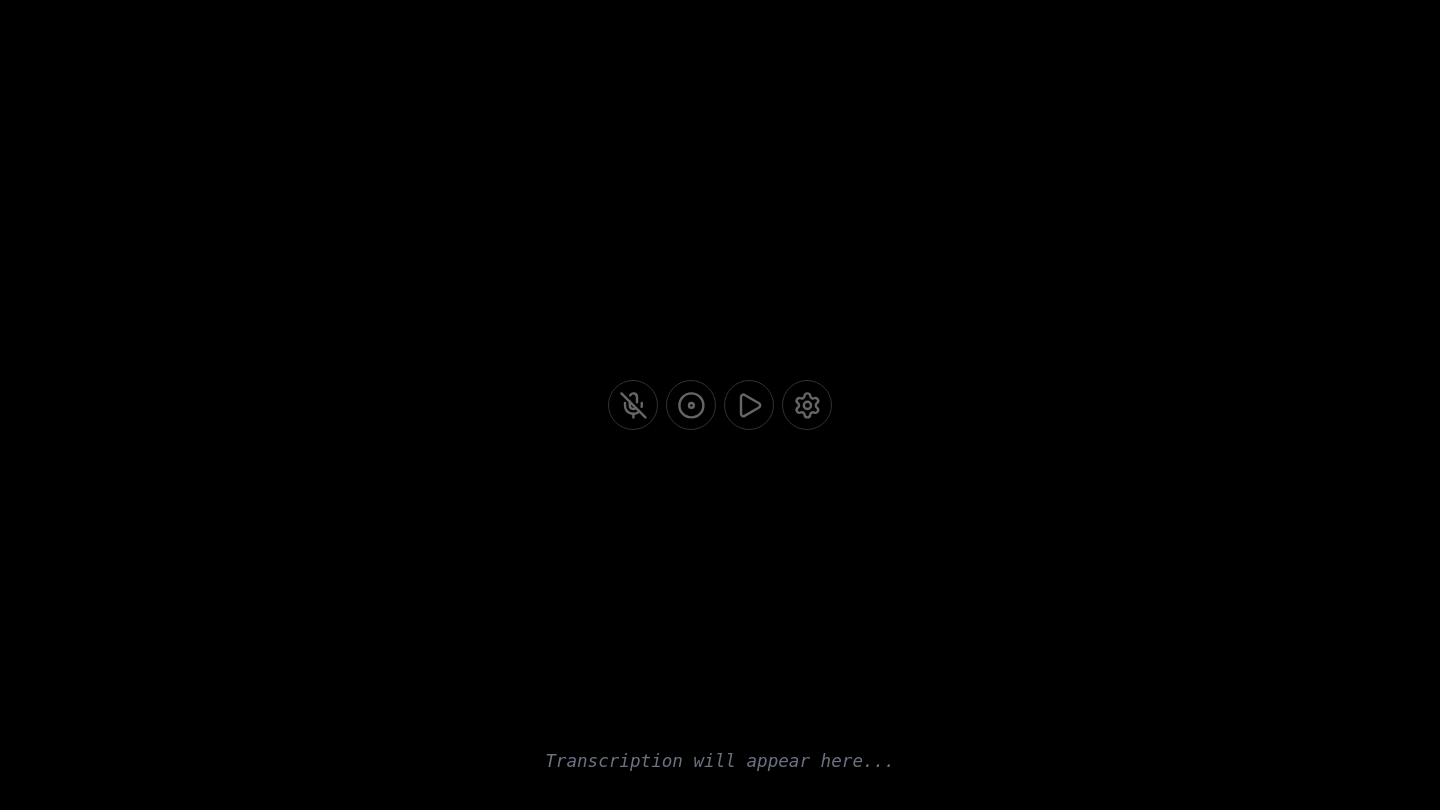
Test case: App › opens settings modal when settings button is clicked
The image size is (1440, 810).
Step 1. Click the button titled "Settings" → point(807, 405), box [782,380,832,430]
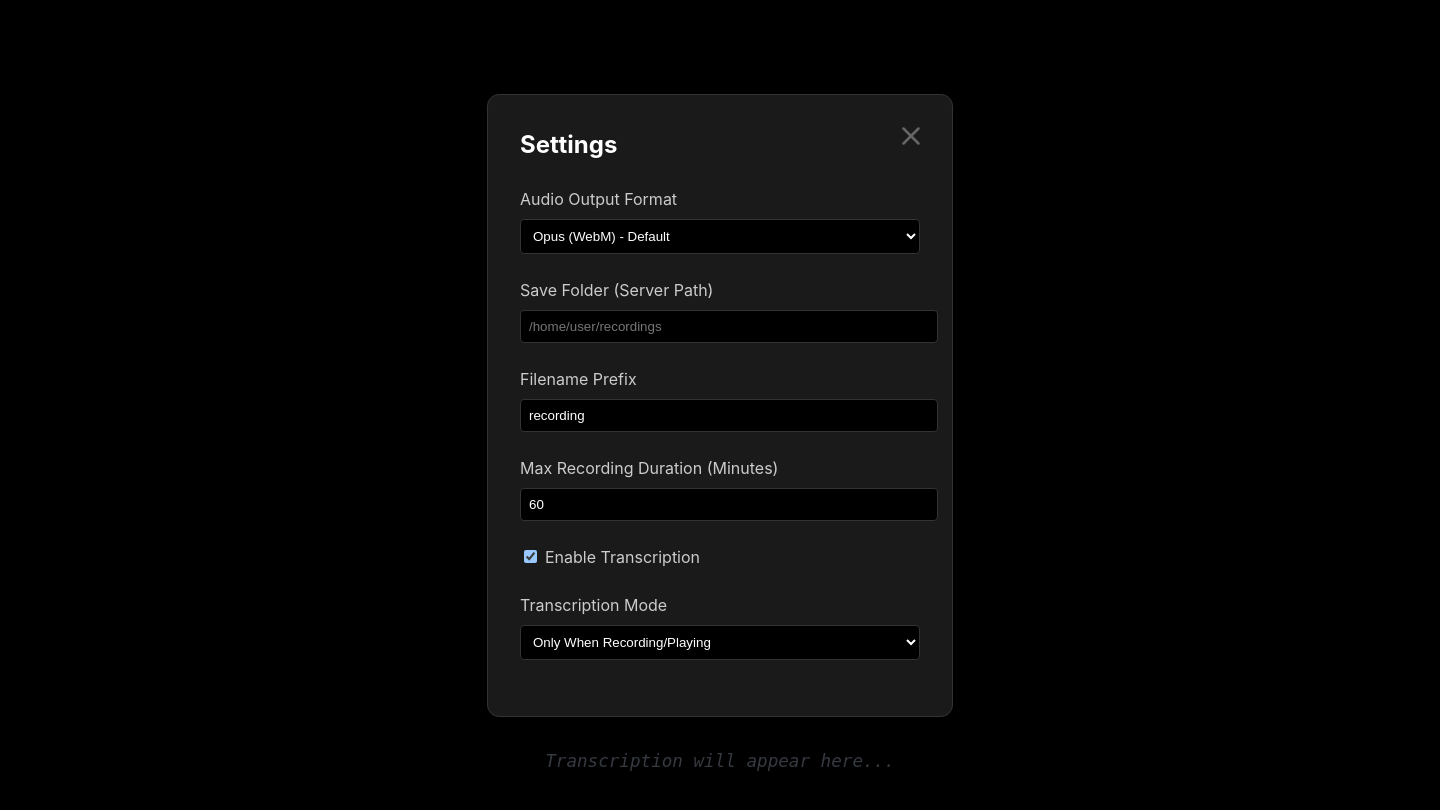
Expected: the heading "Settings" is shown, [520,130,617,158]
Expected: the field labelled "Save Folder (Server Path)" is shown, [520,310,938,342]
